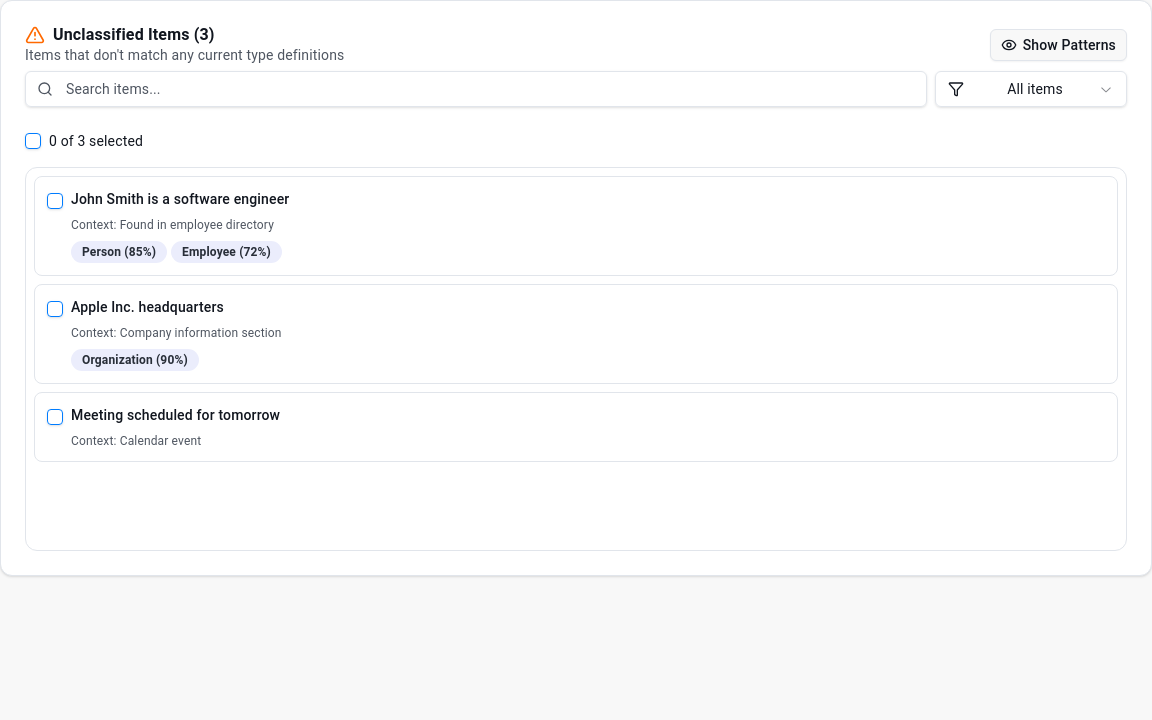
Test case: UnclassifiedItemsPanel › selects all items
The width and height of the screenshot is (1152, 720).
Click the checkbox in the row of "selected" at (33, 141), box top-left (25, 133), bottom-right (41, 149)
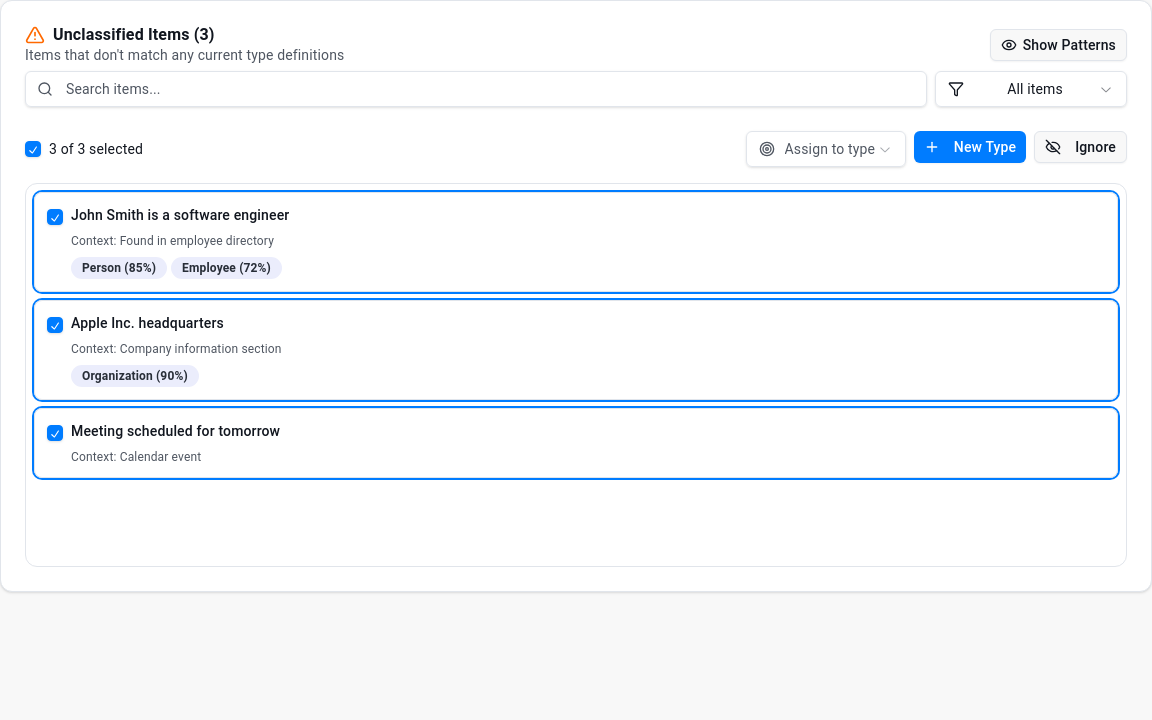
Result: the text "3 of 3 selected" is shown at top-left (49, 139), bottom-right (143, 159)
